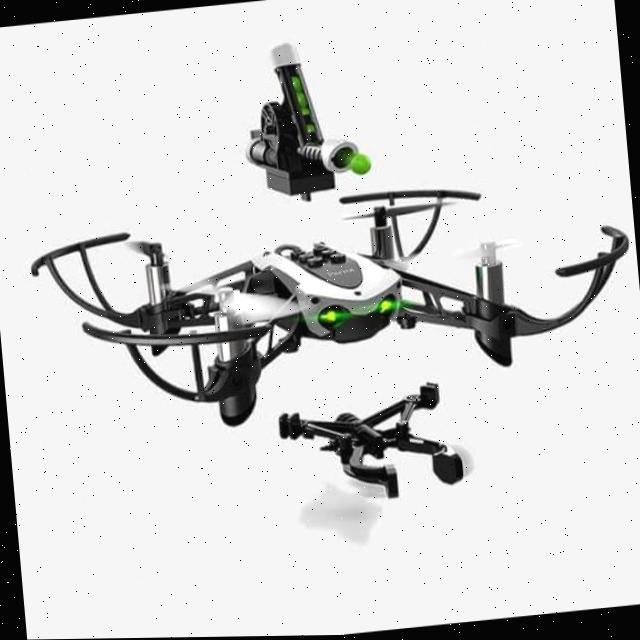drone: (13, 172, 640, 424)
